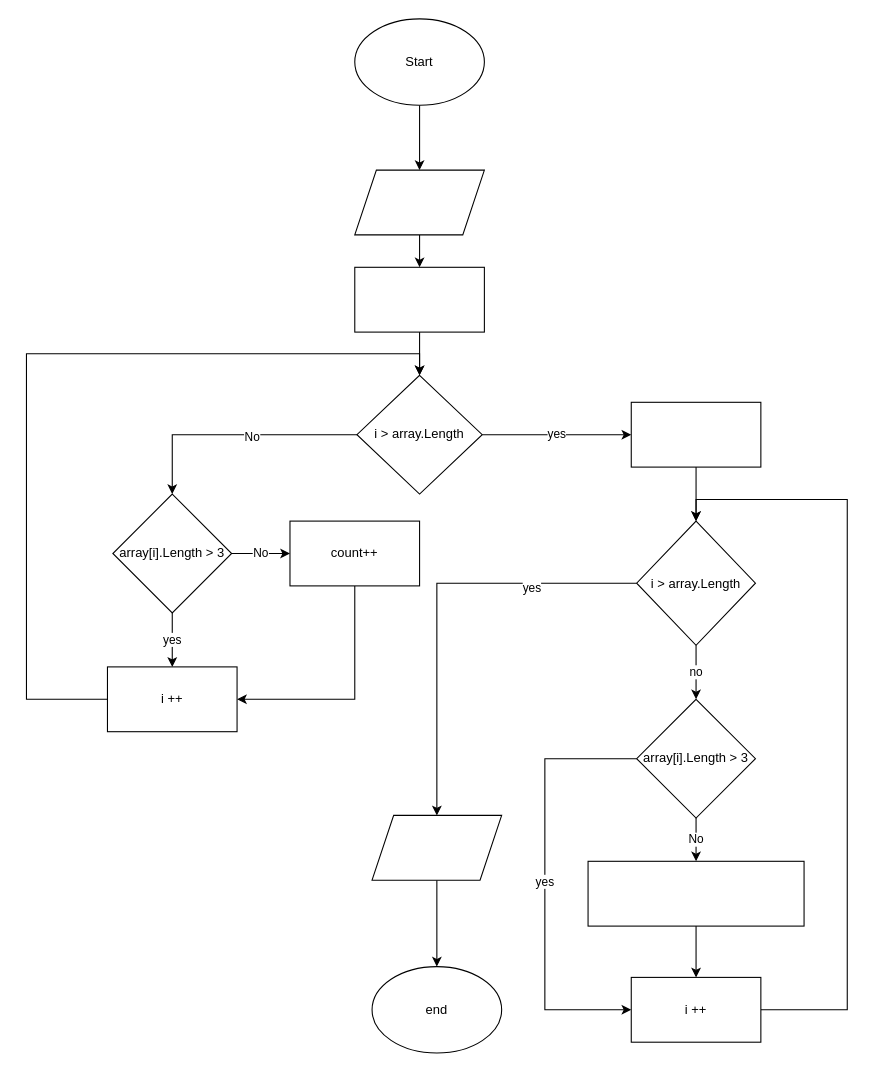
Some shapes in this 875 by 1072 pixel diagram are drawn without their labels. Here are the shapes that lost their labels. From the top down, the centre of each, then its label:
[419,202]: string array
[419,299]: count = 0 i = 0
[695,434]: string[] result = new string [count] i = 0
[436,847]: print resault
[695,893]: result[result.Length - count] = arrai[i] count --
